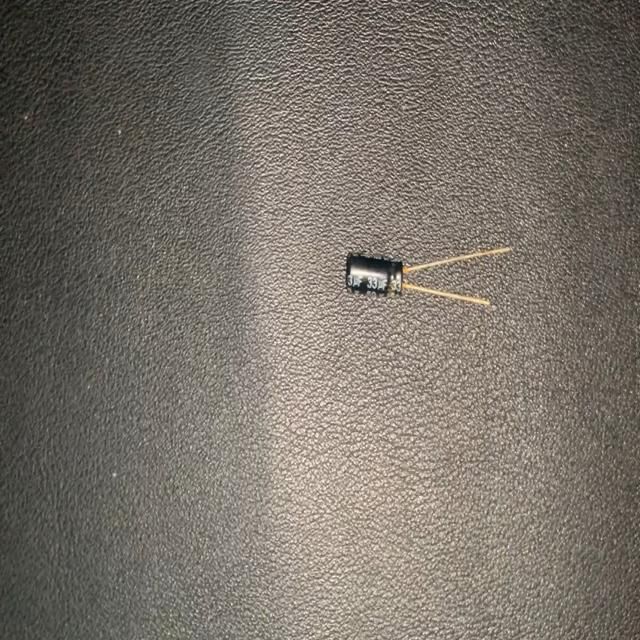defective: (383, 230, 417, 320)
